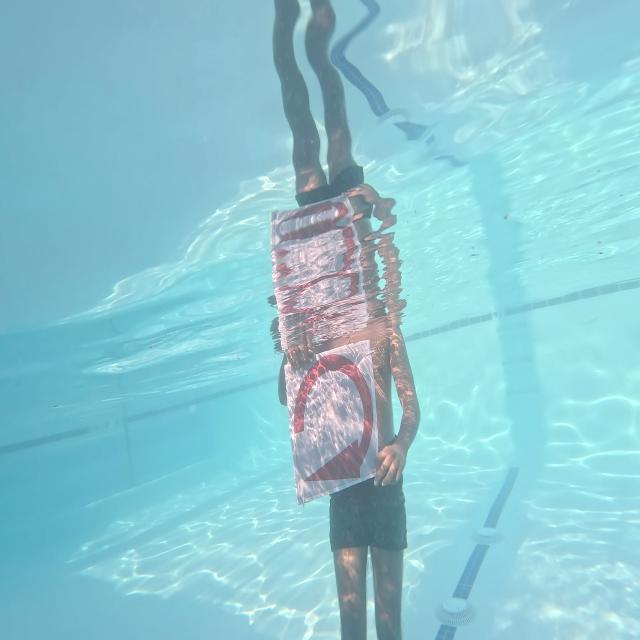red_side: (282, 346, 381, 492)
